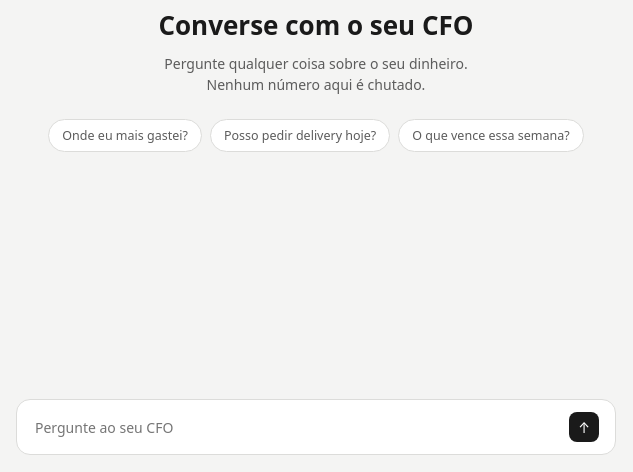
Scenario: TelaChat › mostra mensagem de conexão quando o servidor não responde
Type "oi" into the field labelled "Pergunte ao seu CFO" at (295, 427), box [33,416,557,438]
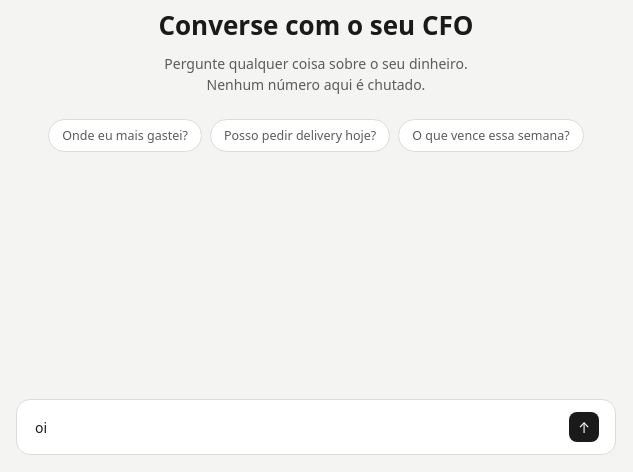
Click the button named "Enviar" at (584, 427), box [569,412,599,442]
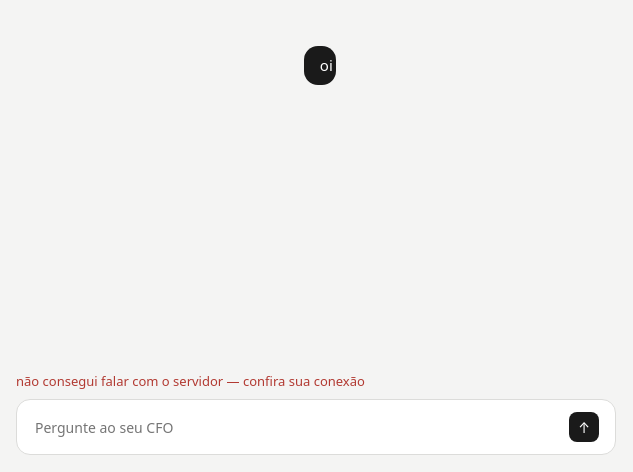
Expected: the text "não consegui falar com o servidor — confira sua conexão" is shown, [16,372,365,390]
